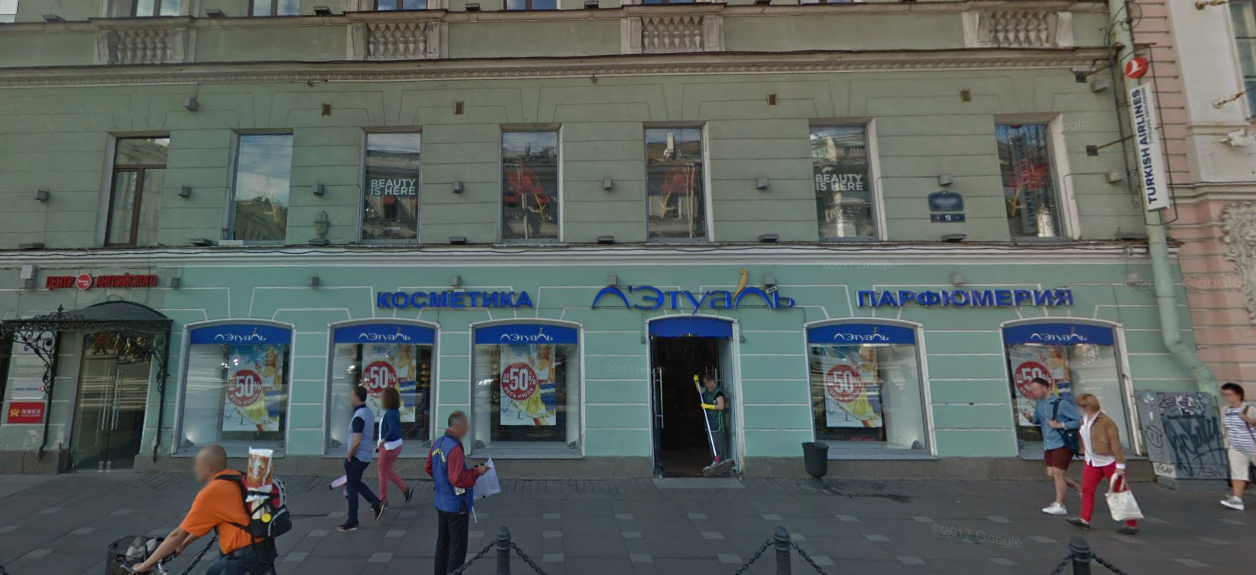cantilever: (1074, 27, 1179, 235)
door: (65, 336, 149, 468)
signboard: (374, 272, 1081, 319), (42, 265, 175, 298)
window: (997, 315, 1135, 468), (804, 319, 933, 457), (474, 323, 586, 464), (192, 324, 289, 455), (805, 119, 887, 248), (994, 108, 1070, 242), (645, 122, 716, 241), (359, 125, 421, 254), (497, 123, 557, 250), (226, 128, 291, 242), (113, 133, 162, 245)
